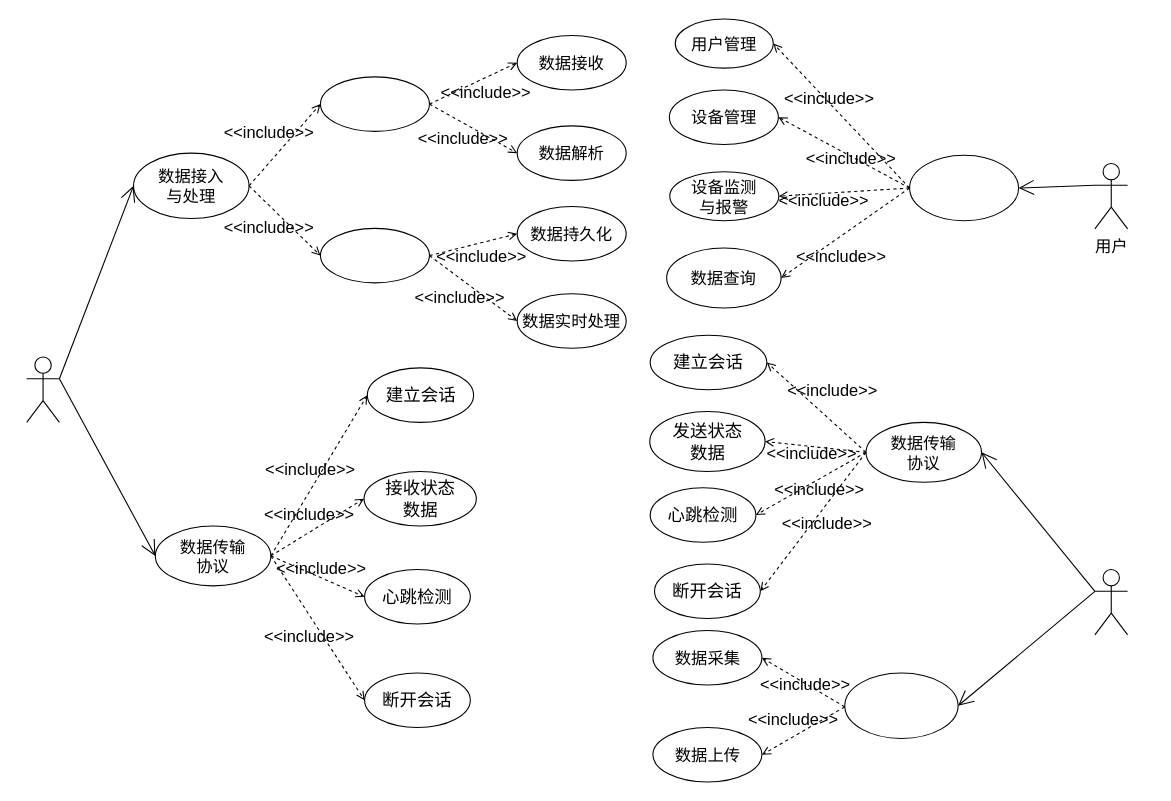
Image size: 1171x801. Some labels were removed from this diagram. The centre of each missing label's shape, as x and y in pixels:
数据处理: the point at 374,255
数据接收 与解析: the point at 374,103
数据服务管理: the point at 964,187
数据采集 与上传: the point at 901,705
服务器: the point at 42,389
物联网设备: the point at 1111,601
